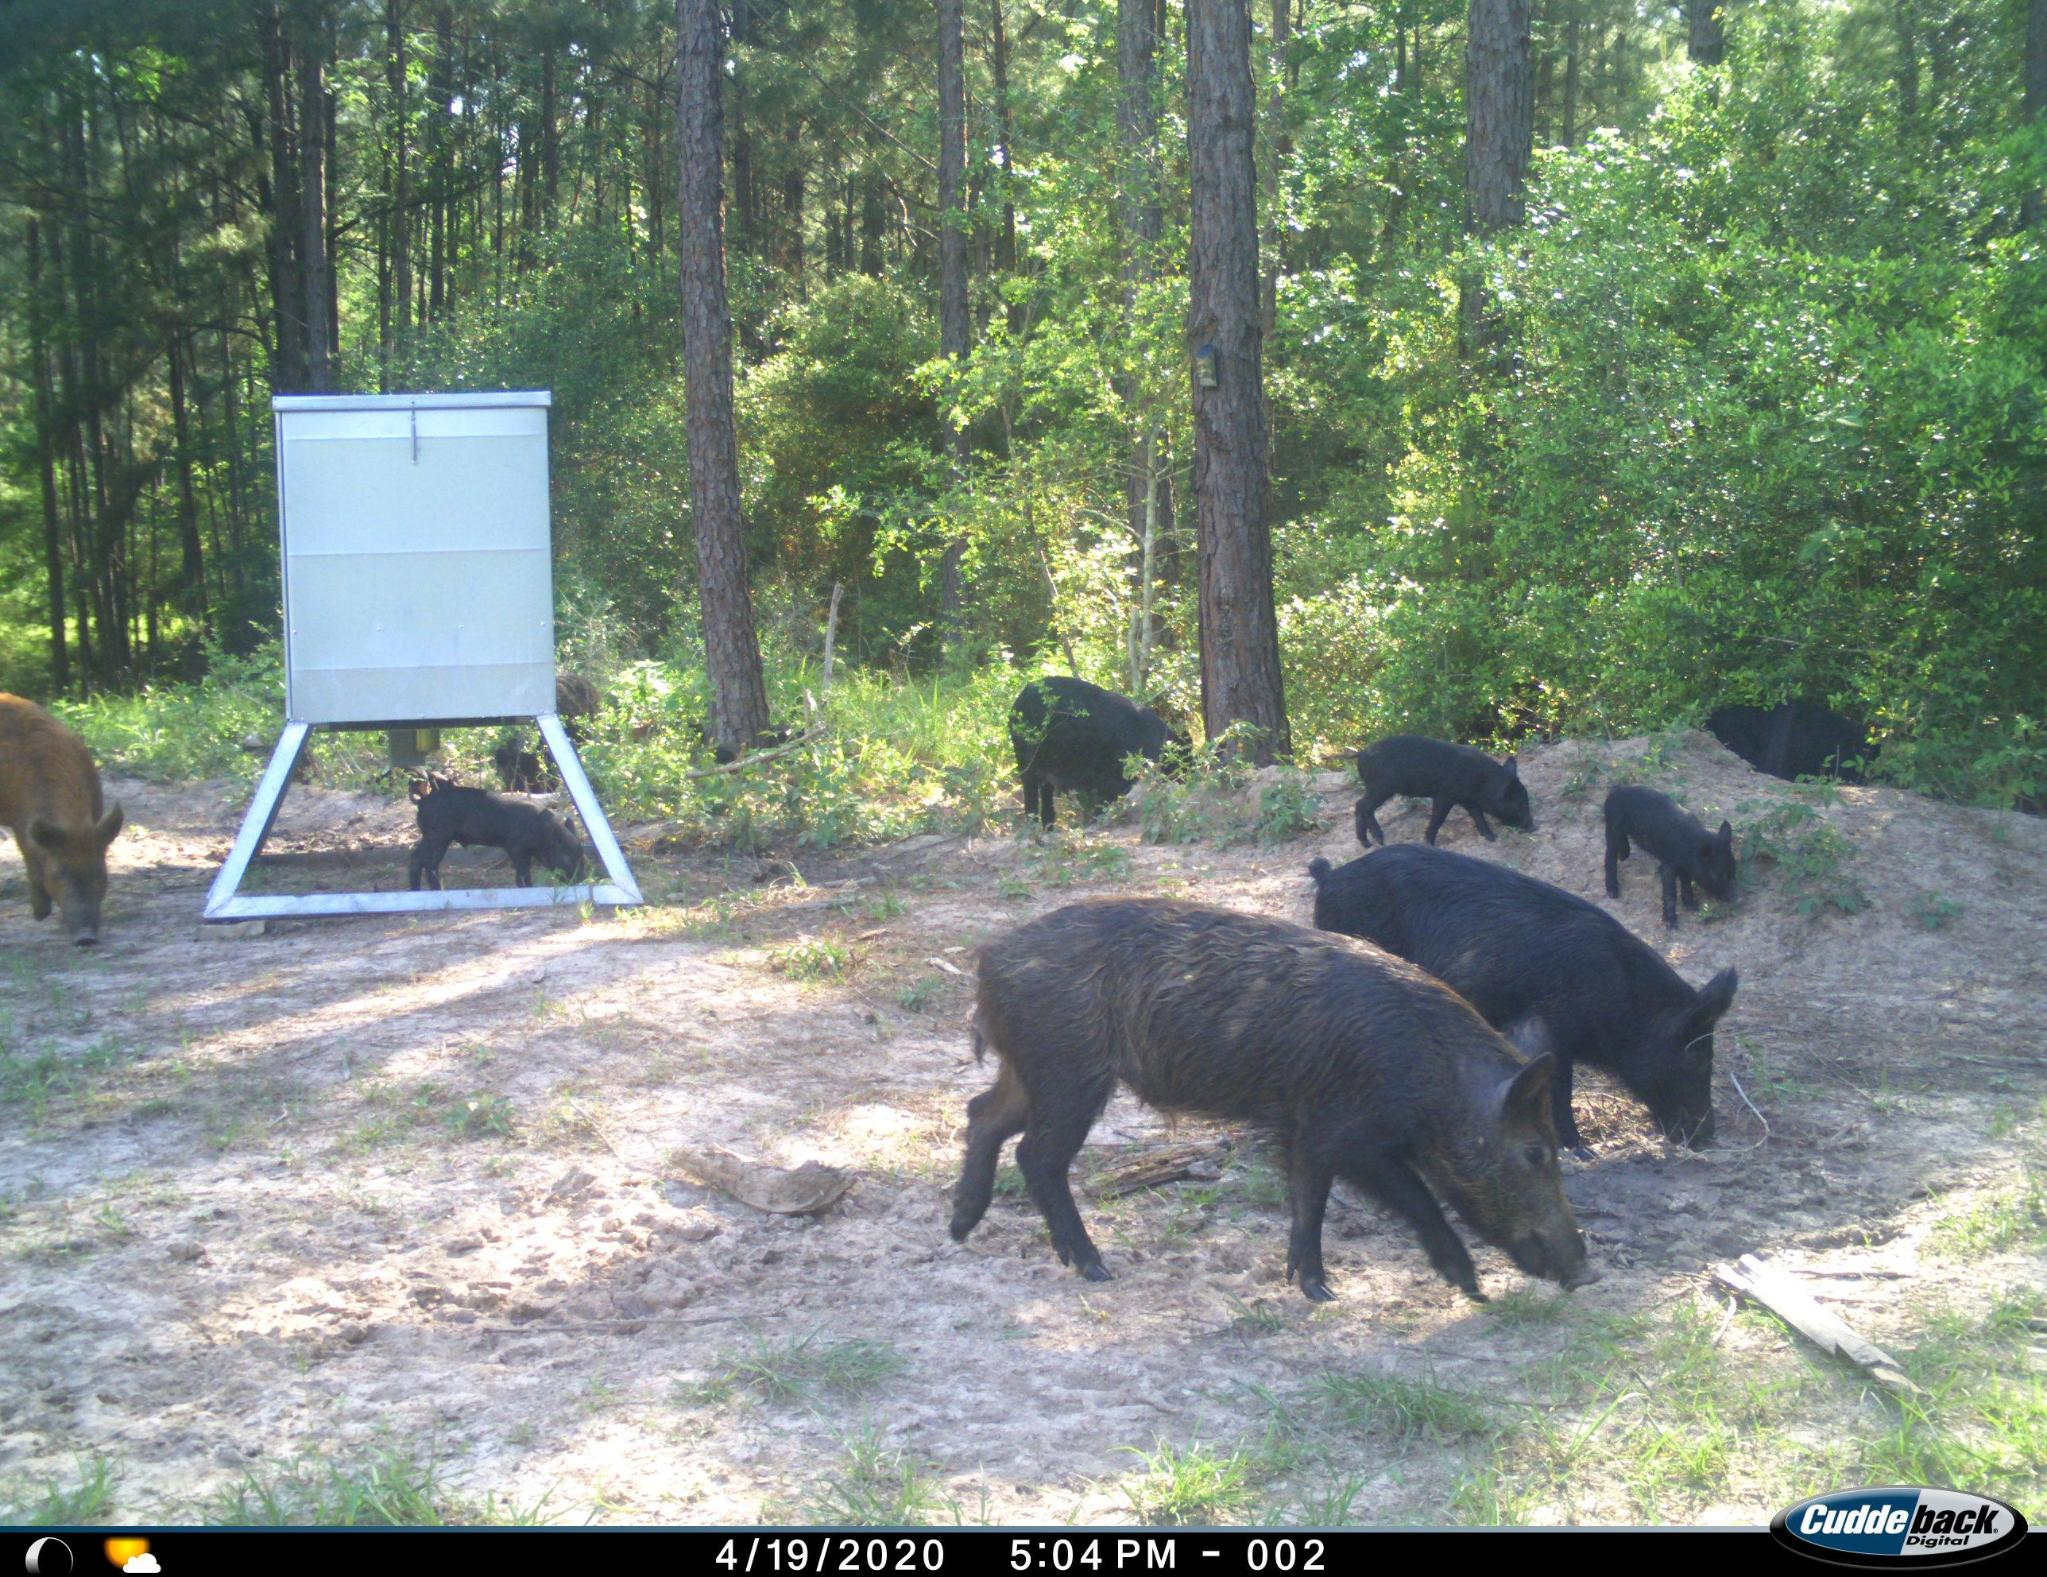Hog: (942, 893, 1603, 1317), (1302, 845, 1732, 1161), (985, 668, 1226, 850), (2, 679, 142, 957), (1343, 729, 1555, 848), (1597, 782, 1751, 941), (394, 774, 591, 891)
